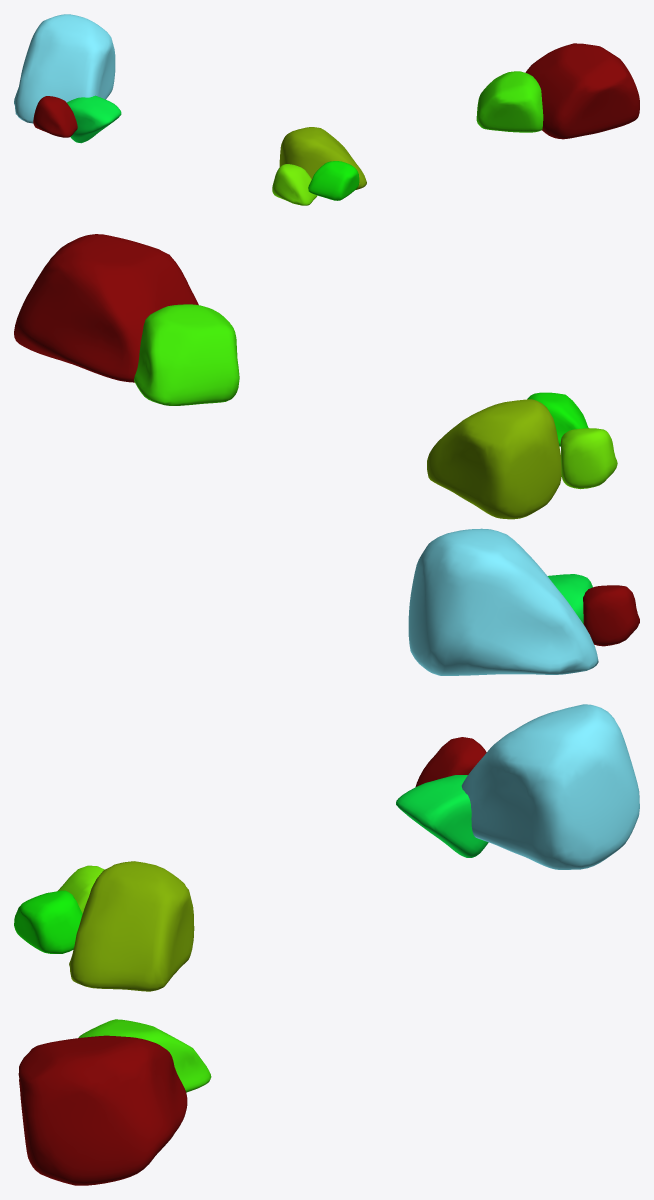
File: StoneGroup1_low.fbx
3 views of the same model, one above another, from view 1: azimuth 30°, elevation 25°; view 2: azimuth 150°, elevation 25°; view 3: azimuth 270°, elevation 25° (orthographic). The views are drawn at different scales.
Visible parts, largest first — view 1: StoneGroup1_low; view 2: StoneGroup1_low; view 3: StoneGroup1_low.
Boxes of the visible parts, bbox=[...] form: StoneGroup1_low: bbox=[14, 14, 639, 205]; StoneGroup1_low: bbox=[14, 234, 639, 675]; StoneGroup1_low: bbox=[14, 704, 639, 1185].
Bounding box in the file's own units: 3.2 × 0.6487 × 2.18.
